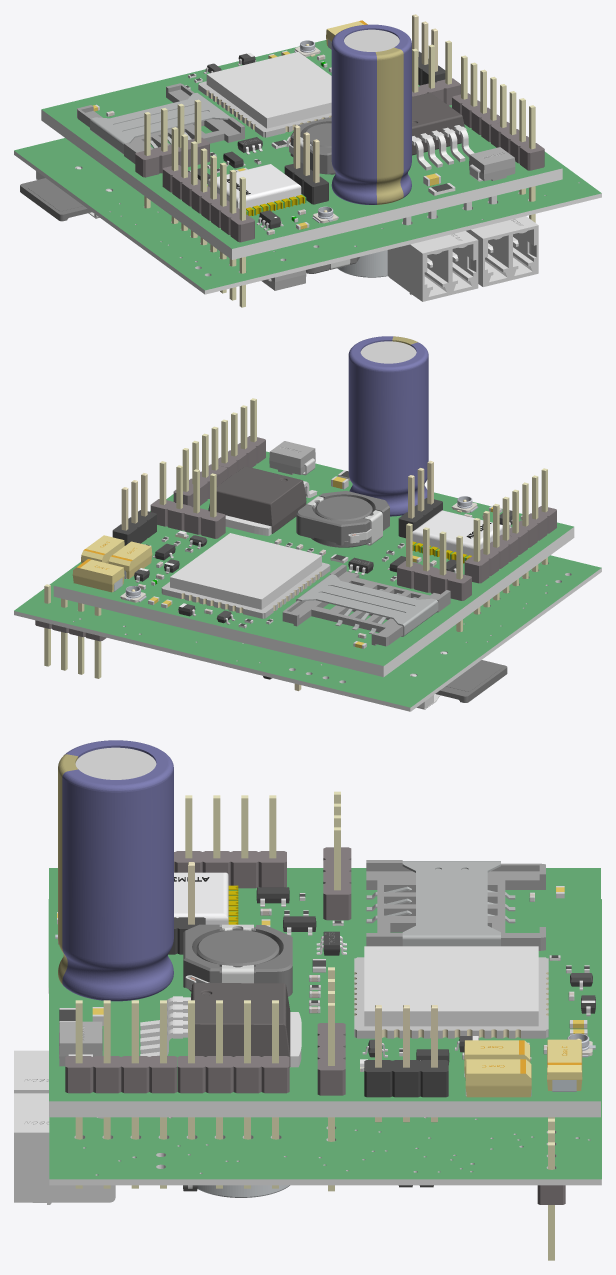
File: rental_toys.glb
3 renders of one model, top to bottom at view 1: azimuth 30°, elevation 25°; view 2: azimuth 150°, elevation 25°; view 3: azimuth 270°, elevation 25°, orthographic. The views are drawn at different scales.
Visible parts, largest first — view 1: Node18, Node19, Node57, Node1, Node22, Node23, Node17, Node55, Node20, Node15, Node14, Node43 (+12 smaller); view 2: Node18, Node57, Node19, Node22, Node23, Node17, Node20, Node46, Node15, Node14, Node51, Node25 (+9 smaller); view 3: Node18, Node57, Node23, Node17, Node19, Node22, Node15, Node1, Node14, Node46, Node20, Node25 (+11 smaller).
Part boxes in pixels (x1,y1,x2,y2): Node18: (14,40,601,290); Node19: (14,53,601,294); Node57: (331,24,411,204); Node1: (36,167,538,301); Node22: (144,40,535,307); Node23: (135,78,544,242); Node17: (206,51,331,154); Node55: (375,47,403,204); Node20: (20,117,359,273); Node15: (90,93,230,154); Node14: (77,83,244,163); Node43: (208,164,301,208); Node18: (14,451,601,707); Node57: (348,336,428,516); Node19: (14,511,601,711); Node22: (44,398,547,678); Node23: (35,436,556,641); Node17: (170,533,373,609); Node20: (296,490,507,702); Node46: (208,466,306,533); Node15: (296,574,438,636); Node14: (282,564,450,646); Node51: (72,535,152,592); Node25: (112,471,456,625); Node18: (48,868,601,1179); Node57: (62,740,173,1001); Node23: (65,847,565,1204); Node17: (316,936,538,1026); Node19: (48,988,601,1185); Node22: (75,791,554,1260); Node15: (366,861,515,946); Node1: (14,1050,115,1204); Node14: (366,860,545,950); Node46: (191,983,290,1066); Node20: (183,924,292,996); Node25: (59,887,589,1097).
Size of the model in its own units: 63.97 by 38.11 by 53.26.
